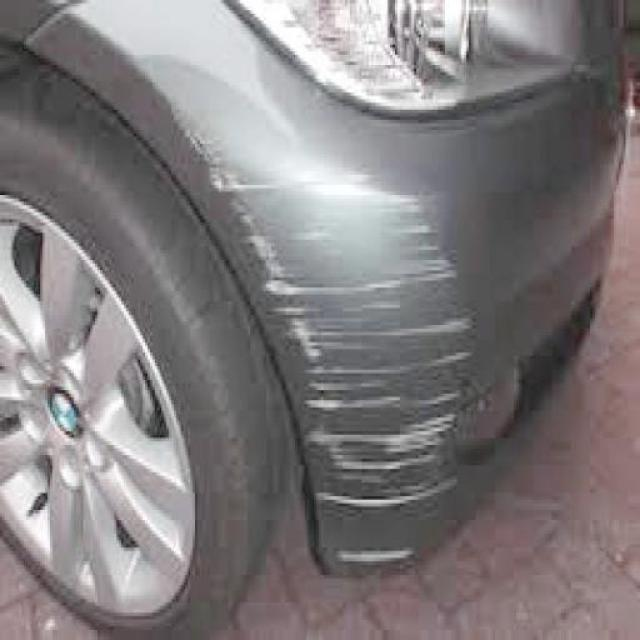car damage: (207, 171, 471, 513)
